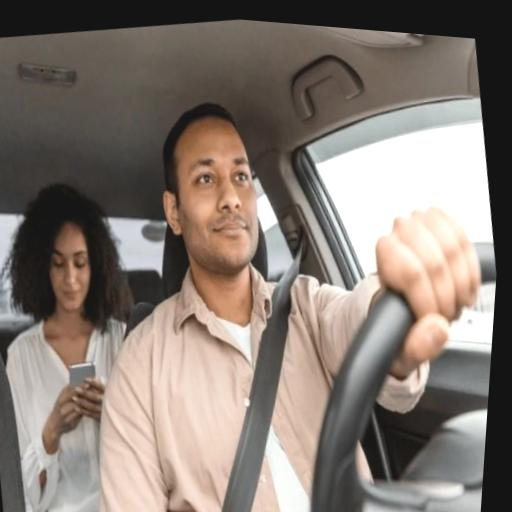Hands-on-the-Wheel: (347, 168, 503, 391)
